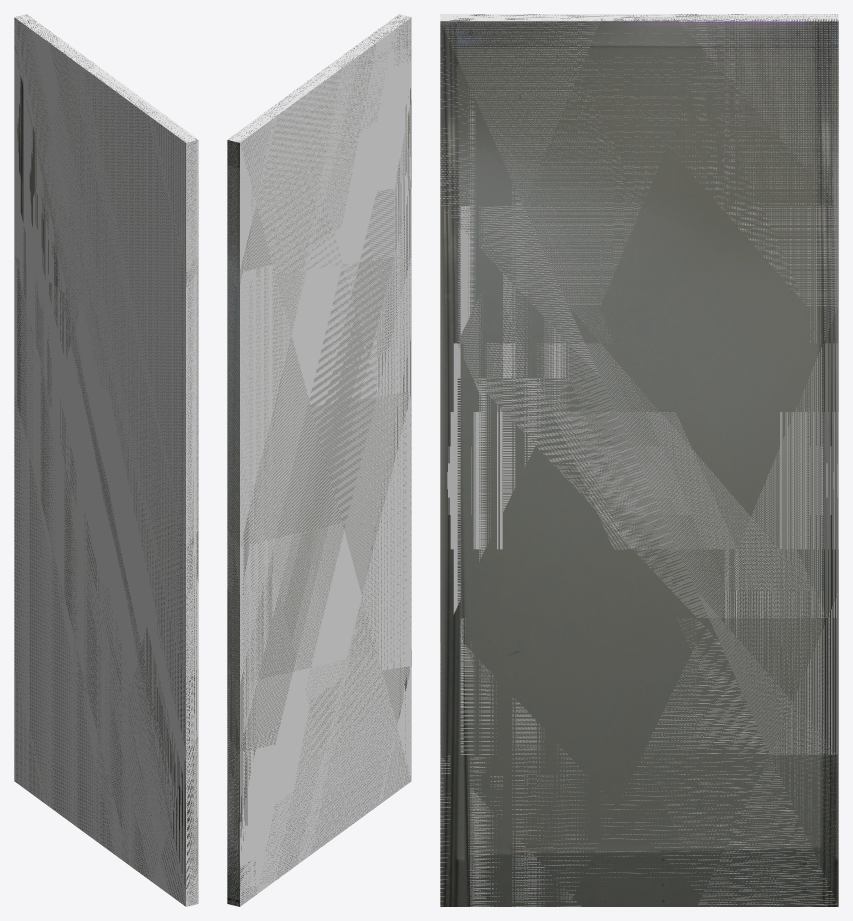
The model's file is SRS_divider5.dae.
The picture shows the model from 3 angles, left to right: view 1: azimuth 30°, elevation 25°; view 2: azimuth 150°, elevation 25°; view 3: azimuth 270°, elevation 25°; orthographic projection. The views are drawn at different scales.
Parts seen in each view (by area): view 1: SketchUp; view 2: SketchUp (×2); view 3: SketchUp.
Part boxes in pixels (x1,y1,x2,y2): SketchUp: [14, 14, 198, 906]; SketchUp (×2): [227, 14, 411, 906]; SketchUp: [440, 14, 838, 906].
Bounding box in the file's own units: 0.0453 × 1.06 × 2.6.
6 materials, 4 textured.
